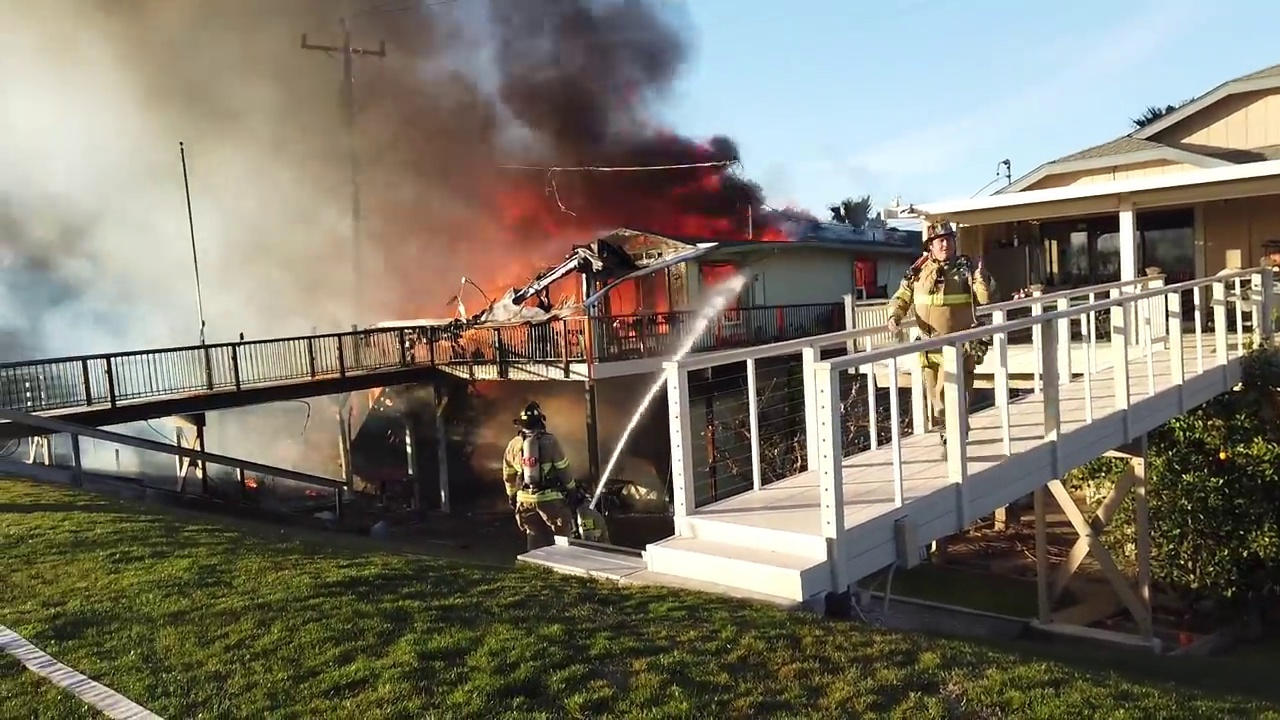fire: (604, 272, 636, 314), (702, 263, 735, 280), (757, 226, 789, 242), (855, 259, 872, 287)
smoke: (214, 1, 454, 355), (1, 1, 212, 358), (457, 1, 752, 239), (206, 408, 343, 474), (78, 436, 178, 479), (552, 386, 590, 471), (472, 409, 509, 471), (594, 407, 629, 444), (594, 379, 642, 402)
